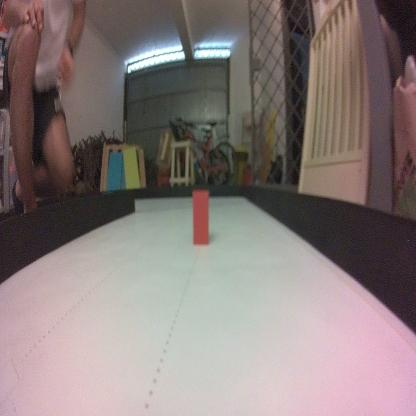red: (191, 188, 210, 248)
